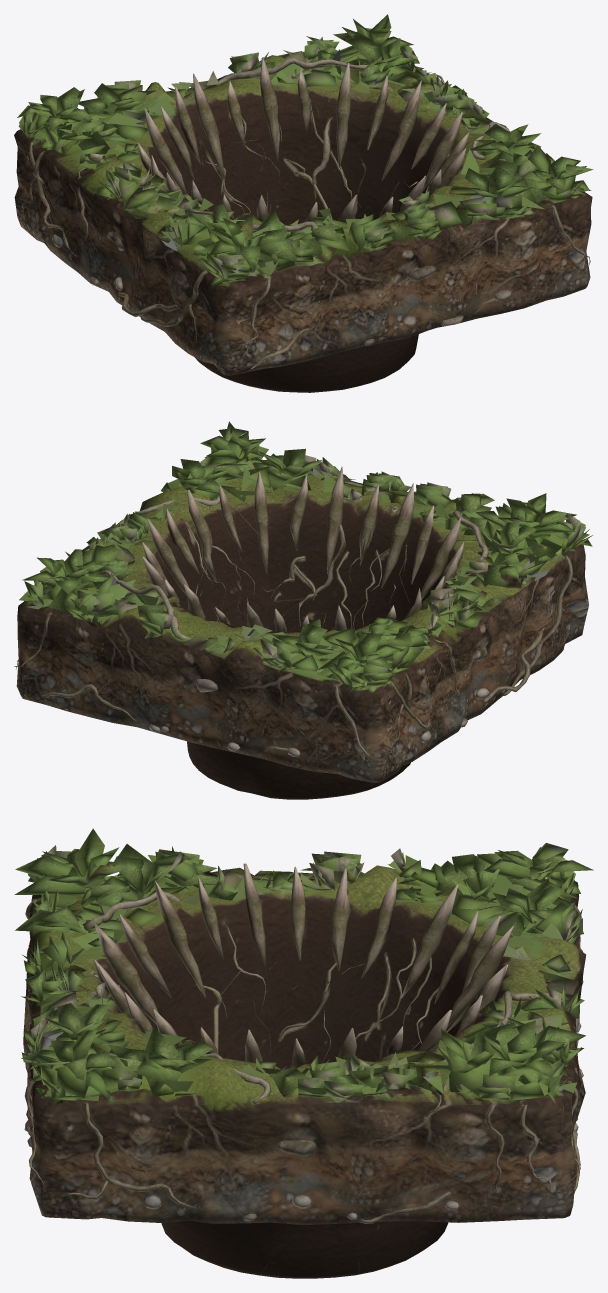
File: pit_tile_realistic.glb
3 views of the same model, one above another, from view 1: azimuth 30°, elevation 25°; view 2: azimuth 150°, elevation 25°; view 3: azimuth 270°, elevation 25° (orthographic). The views are drawn at different scales.
Size of the model in its own units: 0.9429 by 0.5171 by 0.9556.
Materials: 1 (1 with a texture image).
